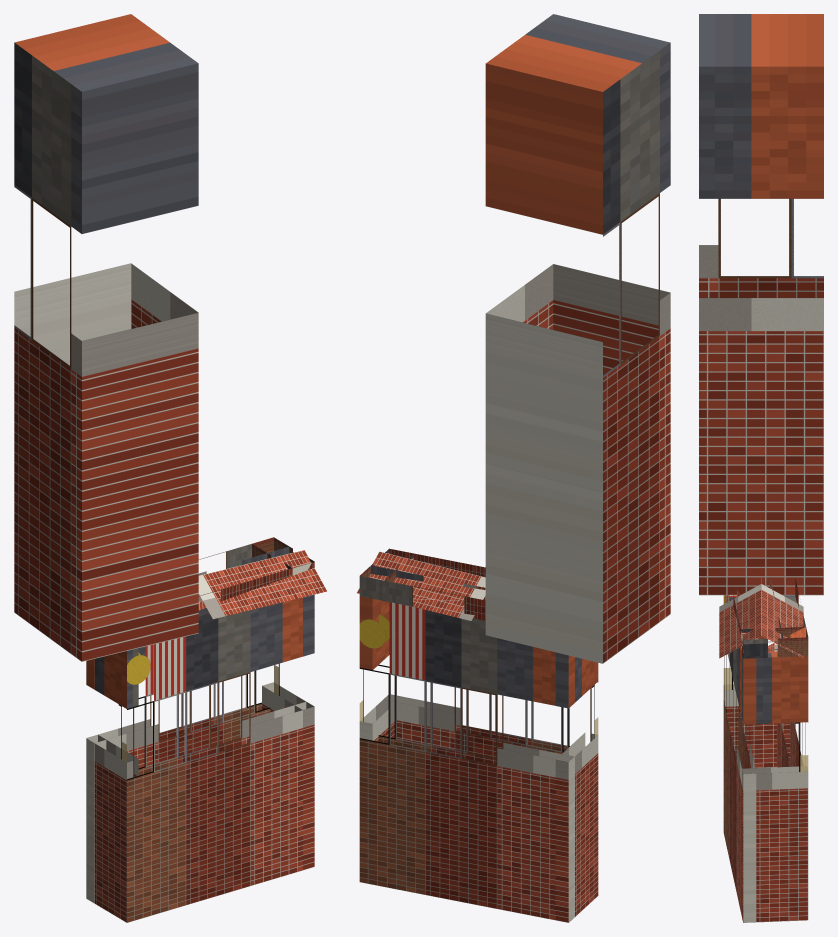
The picture shows the model from 3 angles, left to right: view 1: azimuth 30°, elevation 25°; view 2: azimuth 150°, elevation 25°; view 3: azimuth 270°, elevation 25°; orthographic projection. The views are drawn at different scales.
Visible parts, largest first — view 1: 238636768__chimney_0_xb, 238636768__wall_3_xb, 238636768__wall_2_xb, 238636768__wall_1_xb, 238636768_roof_-1_xb, 238636768__wall_0_xb, 238636768__cornice_3, 238636768__cornice_1, 238636768__cornice_0; view 2: 238636768__chimney_0_xb, 238636768__wall_1_xb, 238636768__wall_2_xb, 238636768__wall_3_xb, 238636768_roof_1_xb, 238636768__wall_0_xb, 238636768__cornice_1, 238636768__cornice_3; view 3: 238636768__chimney_0_xb, 238636768__wall_0_xb, 238636768__wall_3_xb, 238636768__wall_2_xb, 238636768_roof_-1_xb, 238636768_roof_1_xb, 238636768__wall_1_xb, 238636768__cornice_0, 238636768__cornice_3.
Part boxes in pixels (box(x1,y1,x2,y2)): 238636768__chimney_0_xb: box(14, 14, 198, 661); 238636768__wall_3_xb: box(118, 597, 306, 922); 238636768__wall_2_xb: box(94, 648, 138, 922); 238636768__wall_1_xb: box(86, 646, 279, 903); 238636768_roof_-1_xb: box(198, 550, 326, 619); 238636768__wall_0_xb: box(262, 594, 314, 870); 238636768__cornice_3: box(198, 562, 314, 613); 238636768__cornice_1: box(198, 544, 289, 575); 238636768__cornice_0: box(252, 537, 314, 575); 238636768__chimney_0_xb: box(485, 14, 670, 663); 238636768__wall_1_xb: box(359, 602, 574, 922); 238636768__wall_2_xb: box(555, 652, 598, 922); 238636768__wall_3_xb: box(383, 685, 598, 757); 238636768_roof_1_xb: box(356, 551, 485, 620); 238636768__wall_0_xb: box(359, 596, 402, 741); 238636768__cornice_1: box(359, 565, 485, 620); 238636768__cornice_3: box(389, 548, 485, 577); 238636768__chimney_0_xb: box(699, 14, 823, 595); 238636768__wall_0_xb: box(742, 651, 808, 922); 238636768__wall_3_xb: box(723, 595, 756, 922); 238636768__wall_2_xb: box(723, 595, 790, 767); 238636768_roof_-1_xb: box(719, 584, 761, 658); 238636768_roof_1_xb: box(761, 584, 803, 658); 238636768__wall_1_xb: box(777, 595, 808, 771); 238636768__cornice_0: box(741, 626, 808, 658); 238636768__cornice_3: box(730, 581, 767, 658).
Size of the model in its own units: 0.3297 by 1.05 by 0.15.
Materials: 1 (1 with a texture image).
